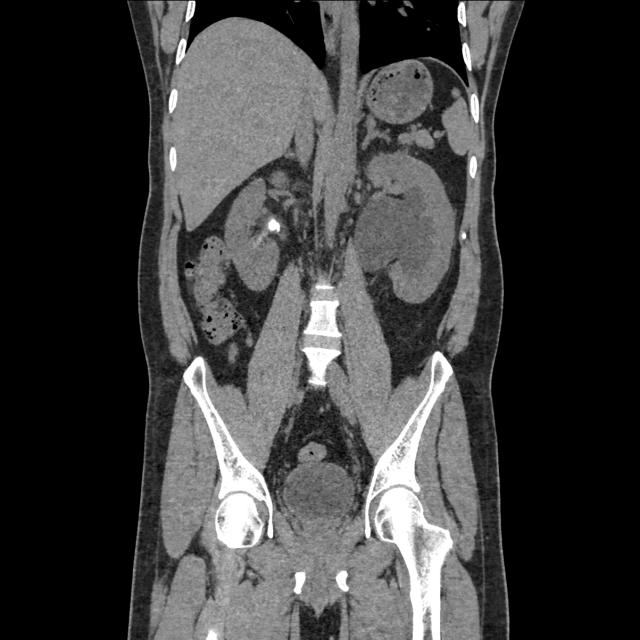kidneystone: (268, 218, 281, 232)
